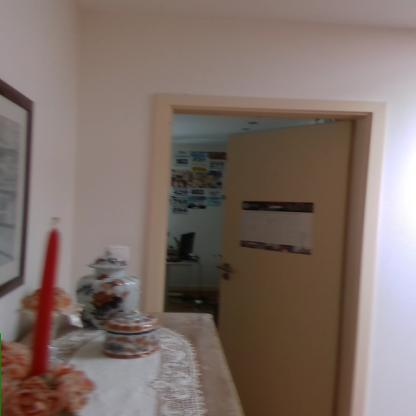semi: (117, 74, 408, 414)
